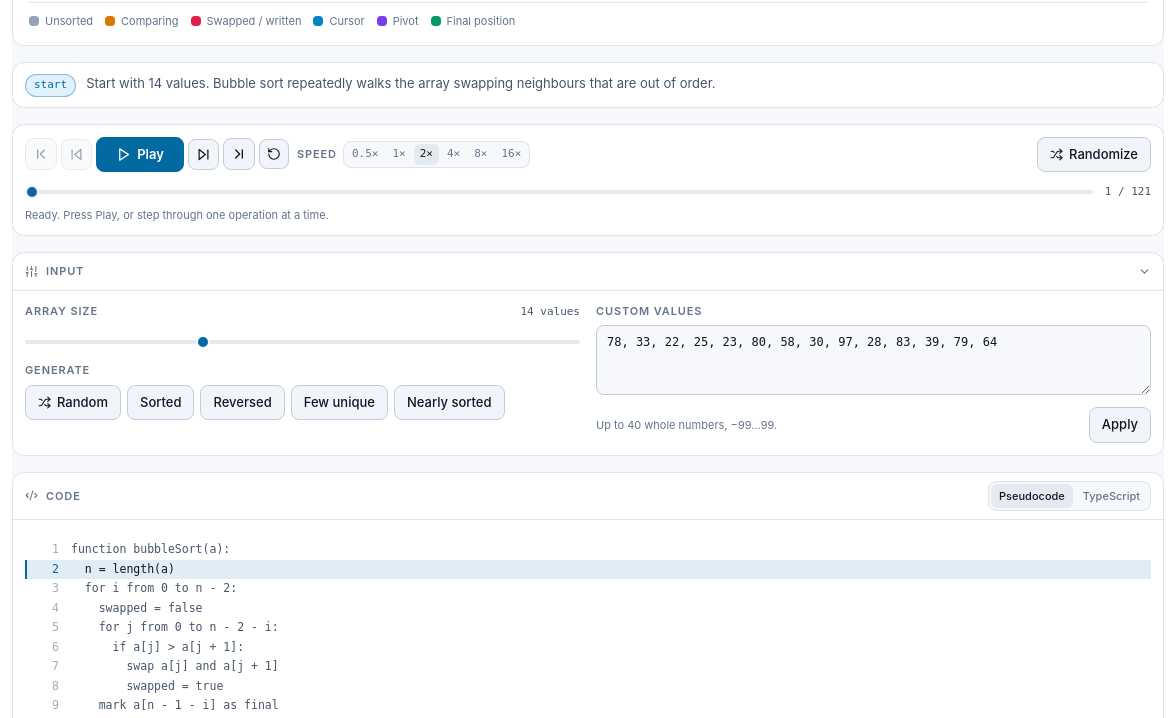
SortingPage › handles a single-value array
The width and height of the screenshot is (1176, 718).
(page scrolled)
Replace the text in the text box labelled "Custom values" with "7" at (874, 360), box [596, 325, 1151, 395]
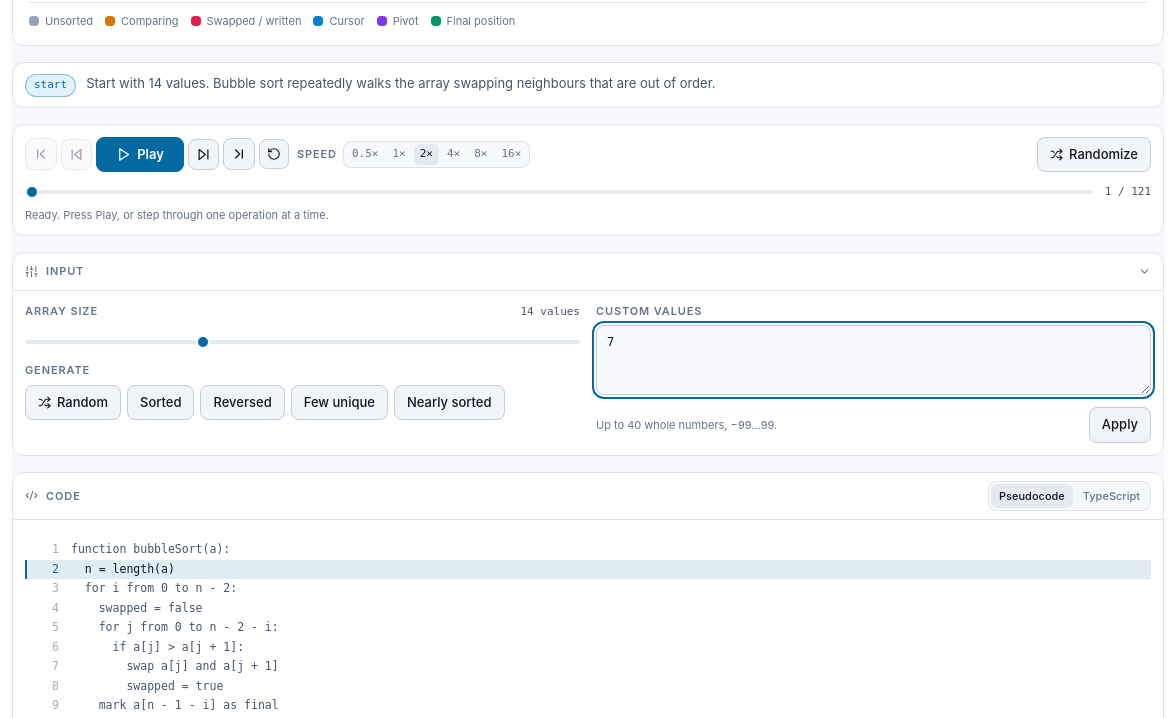
Click the button "Apply" at (1120, 425), box [1089, 407, 1151, 442]
(page scrolled)
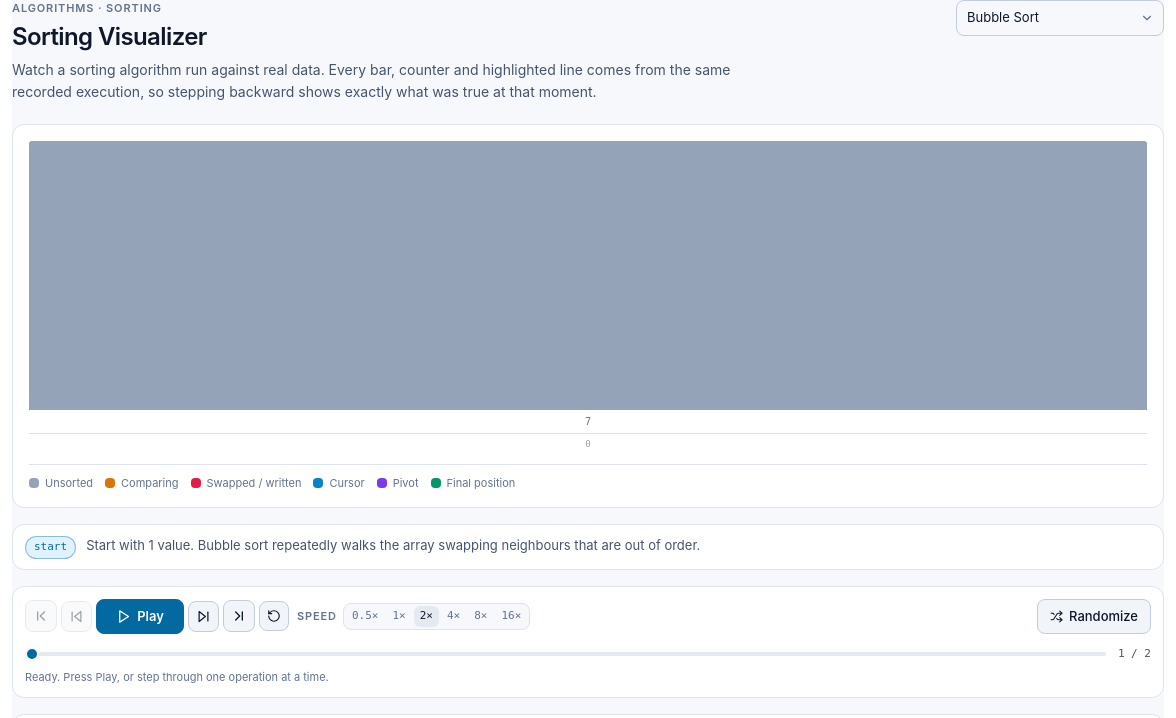
Check: the picture named "Array of 1 values: 7" is shown, box [29, 141, 1147, 429]
